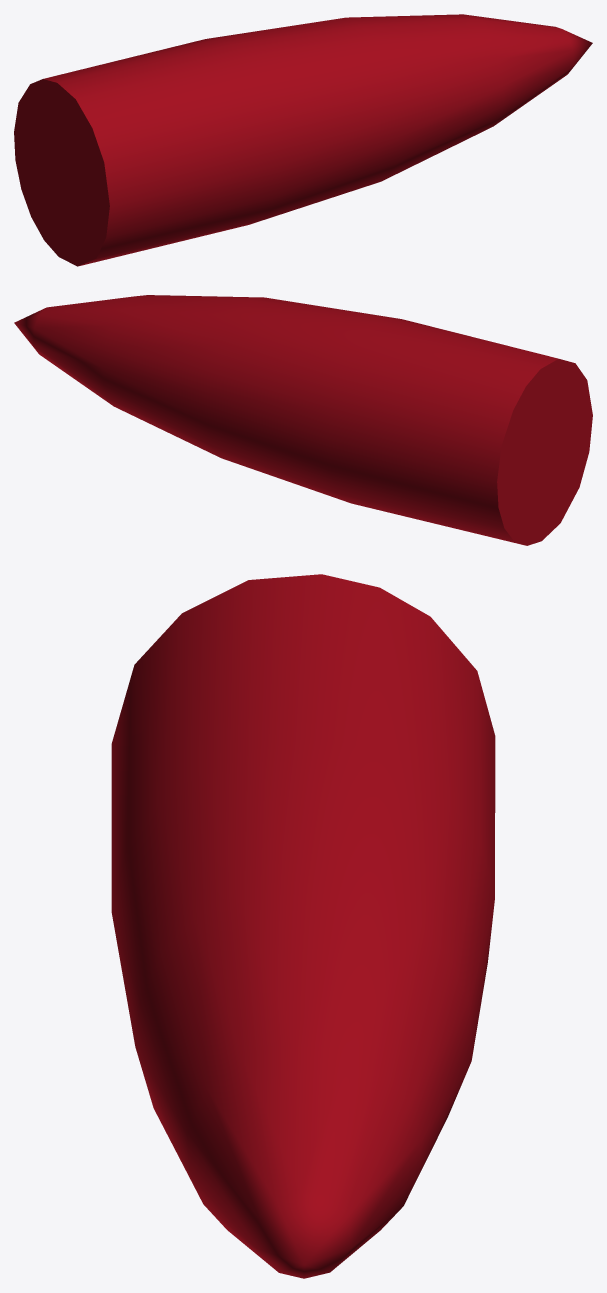
Rendered from bala_materia_vermelha.obj.
3 views of the same model, one above another, from view 1: azimuth 30°, elevation 25°; view 2: azimuth 150°, elevation 25°; view 3: azimuth 270°, elevation 25° (orthographic). The views are drawn at different scales.
Size of the model in its own units: 0.1004 by 0.0313 by 0.0314.
